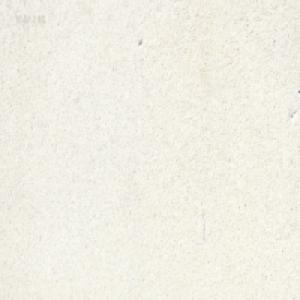Wrench: (184, 0, 191, 5)
